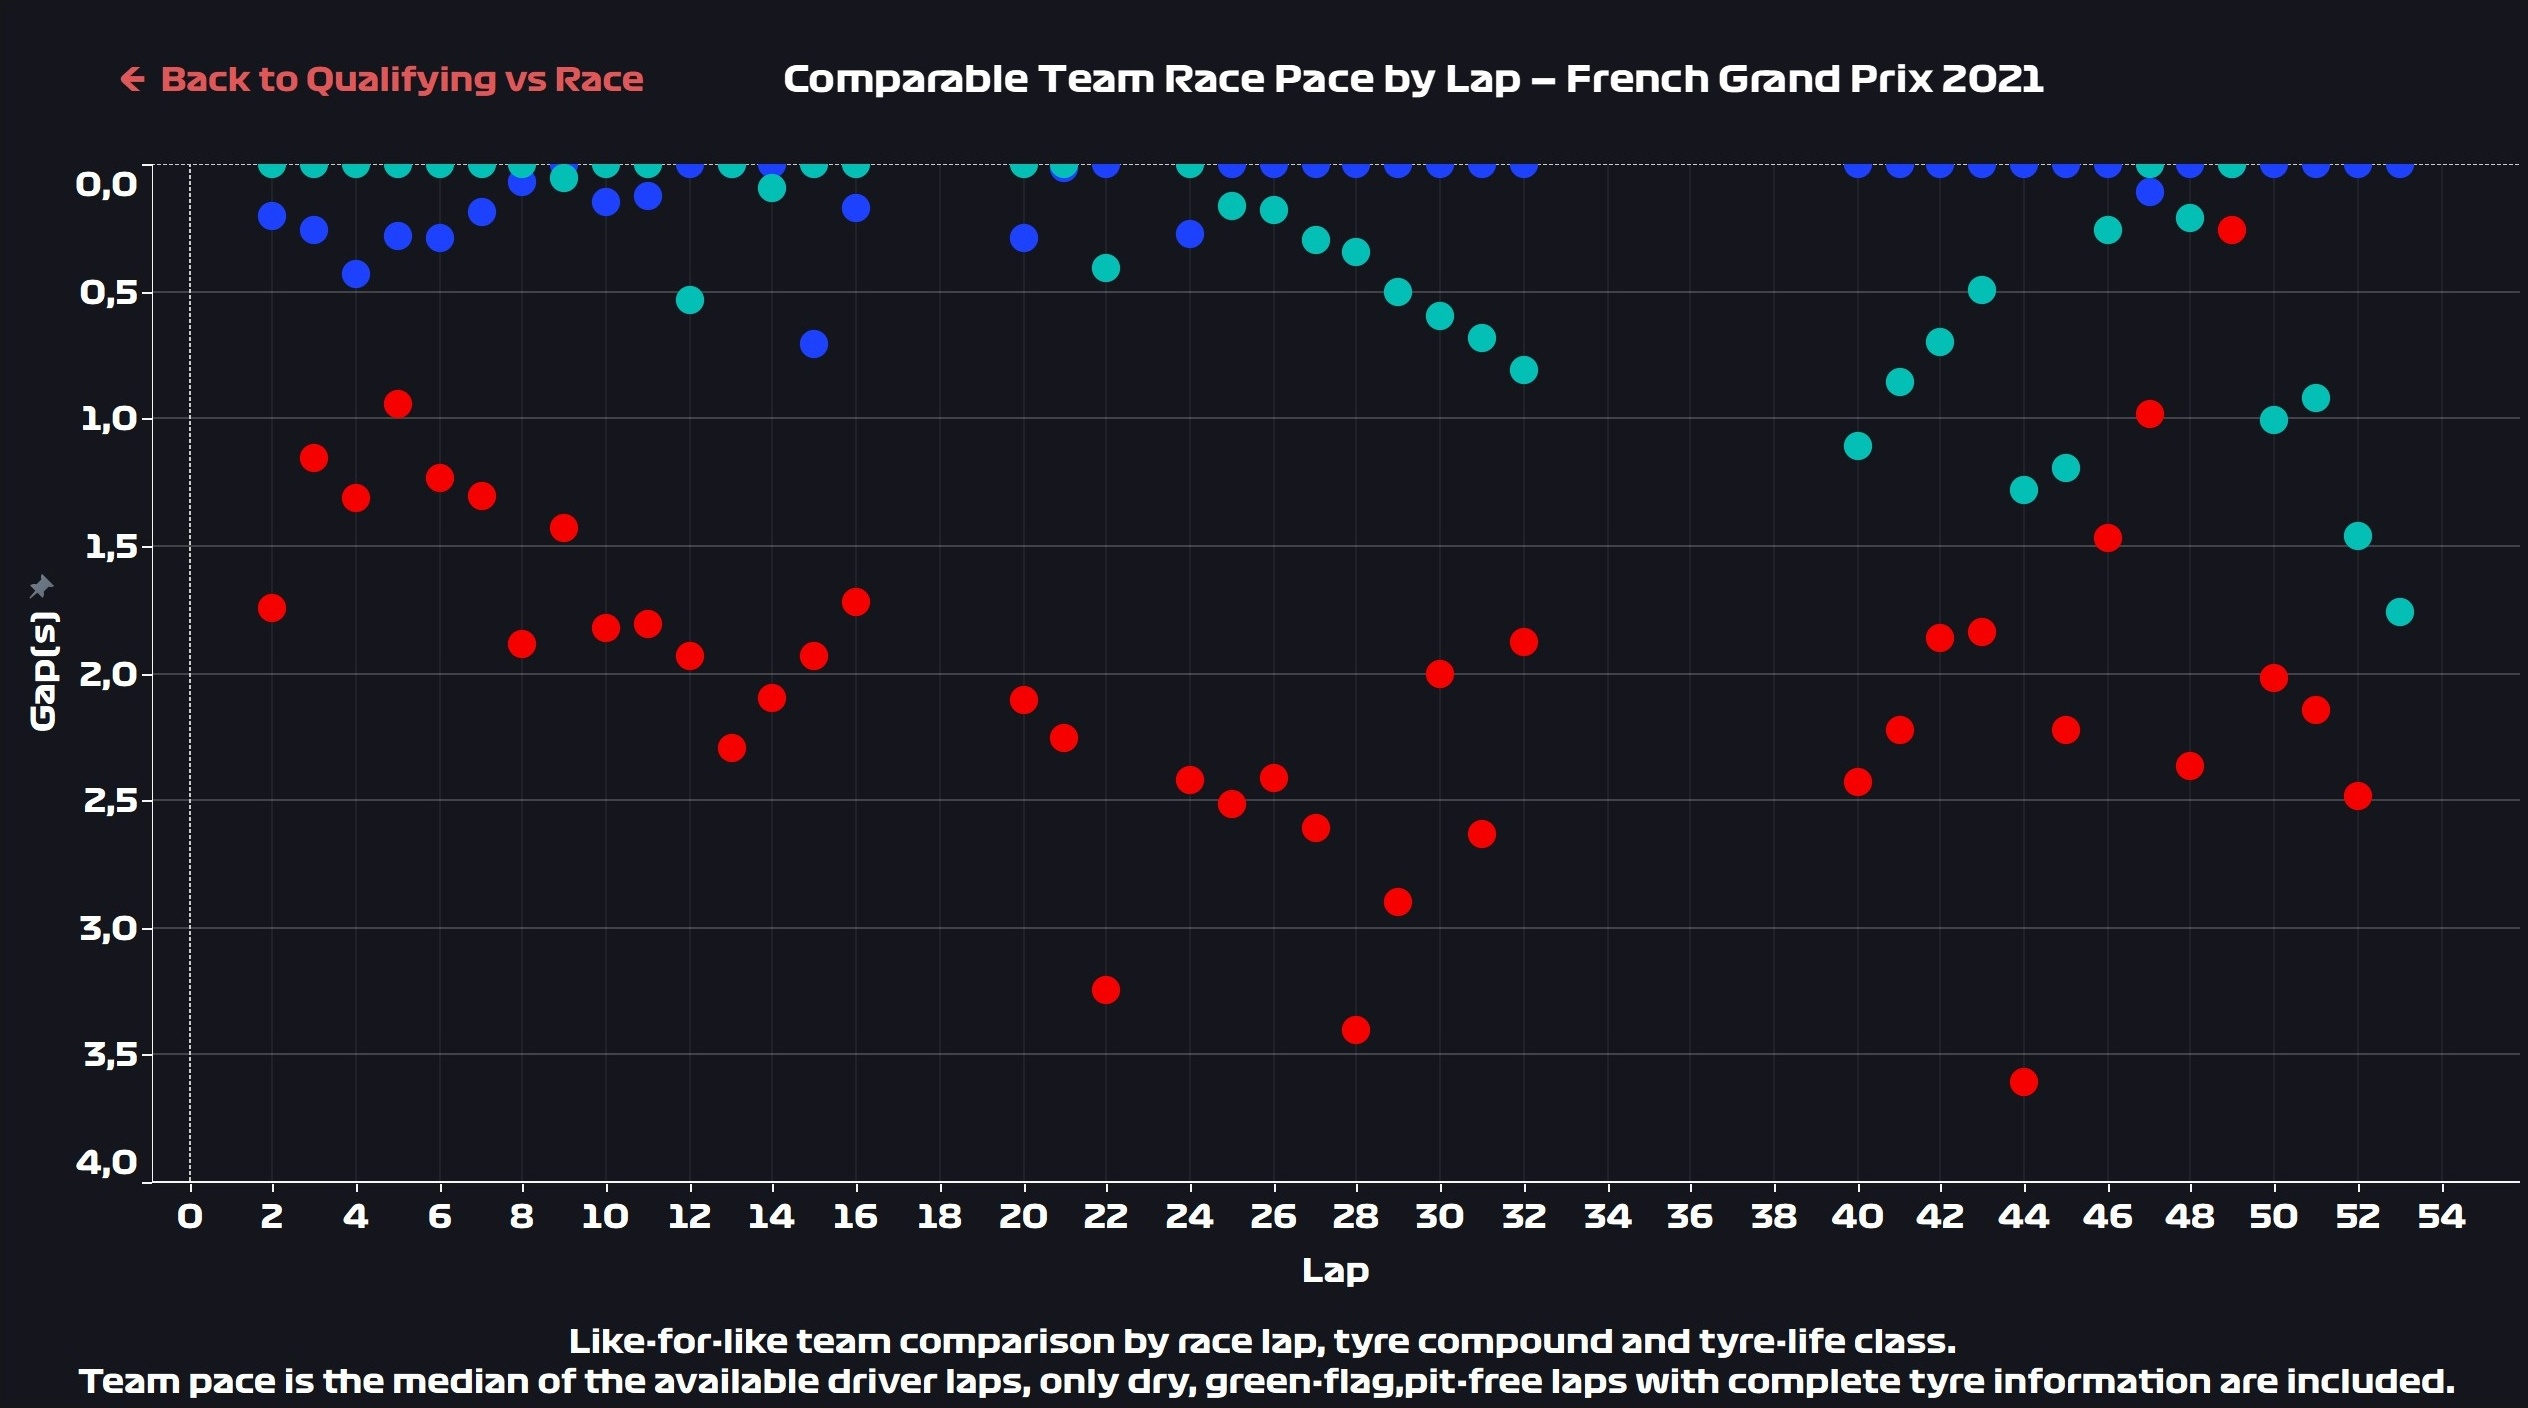

What the dashboard file says about the page in this screenshot:
{"tool":"tableau","page":{"name":"Team Race Pace by Lap","canvas":[1280,720],"ordinal":4},"visuals":[{"type":"dashboard-object","box":[8,8,383,78]},{"type":"worksheet","title":"Dynamic Race Lap Title","mark":"Automatic","box":[391,8,881,78]},{"type":"worksheet","title":"Comparable Team Race Pace by Lap","mark":"Circle","cols":["lap_number"],"box":[8,86,1264,626]}]}

Visuals, with their boxes in screenshot pixels (x1, y1, x2, y2), scaled from the page's 1280x720 canvas onto the 2528x1408 screenshot:
dashboard-object: 16, 16, 772, 168
"Dynamic Race Lap Title" worksheet: 772, 16, 2512, 168
"Comparable Team Race Pace by Lap" worksheet (Circle marks): 16, 168, 2512, 1392
